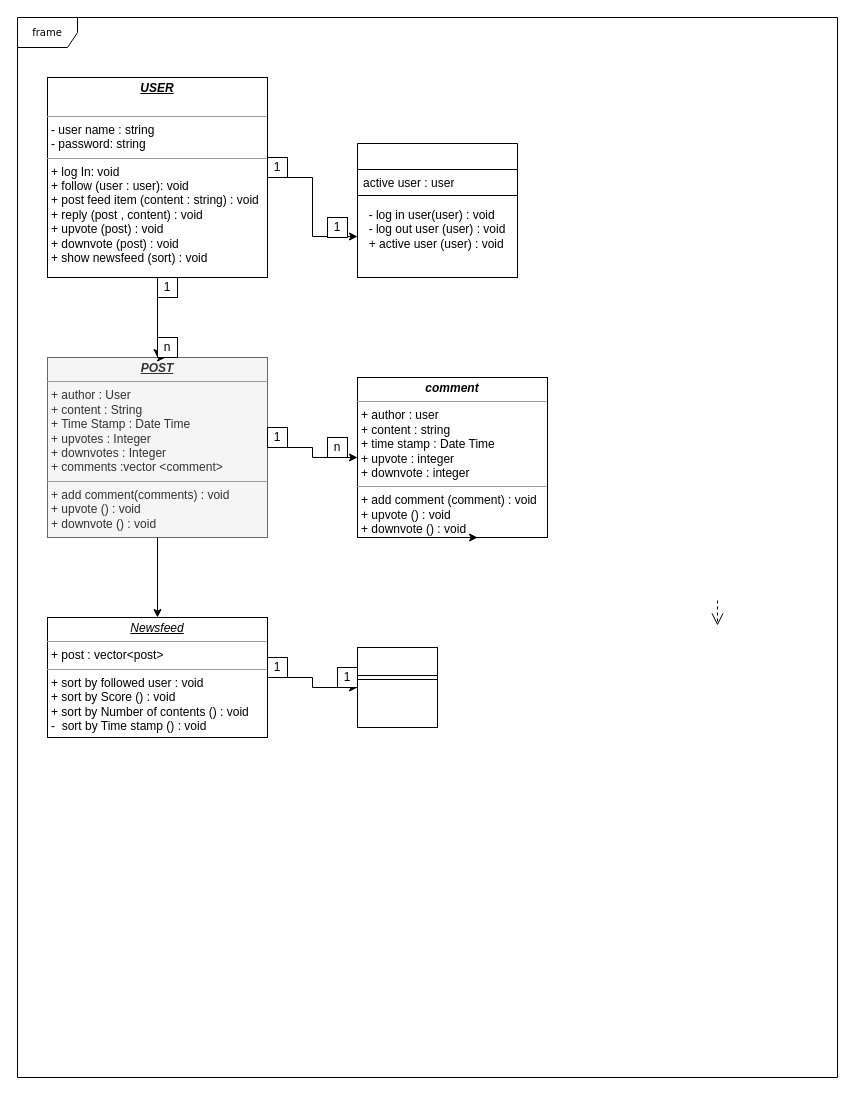
Some shapes in this 855 by 1095 pixel diagram are drawn without their labels. Here are the shapes that lost their labels. From the top down, the box of each, then its label:
(356, 142, 518, 278): sesssion
(356, 646, 438, 728): Time format time (time stamp) : string
